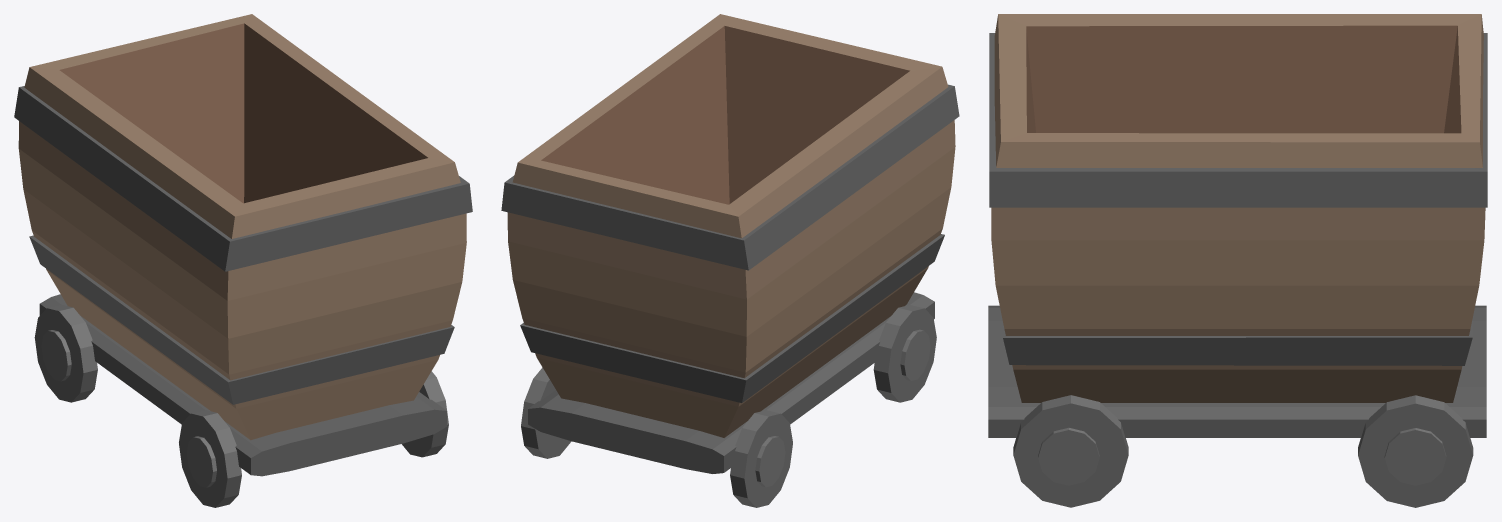
Rendered from cart.fbx.
The picture shows the model from 3 angles, left to right: view 1: azimuth 30°, elevation 25°; view 2: azimuth 150°, elevation 25°; view 3: azimuth 270°, elevation 25°; orthographic projection. The views are drawn at different scales.
Parts seen in each view (by area): view 1: Cube; view 2: Cube; view 3: Cube.
Part boxes in pixels (x1,y1,x2,y2): Cube: [14, 14, 472, 507]; Cube: [501, 14, 959, 507]; Cube: [988, 14, 1487, 507].
Bounding box in the file's own units: 293 × 352 × 434.
